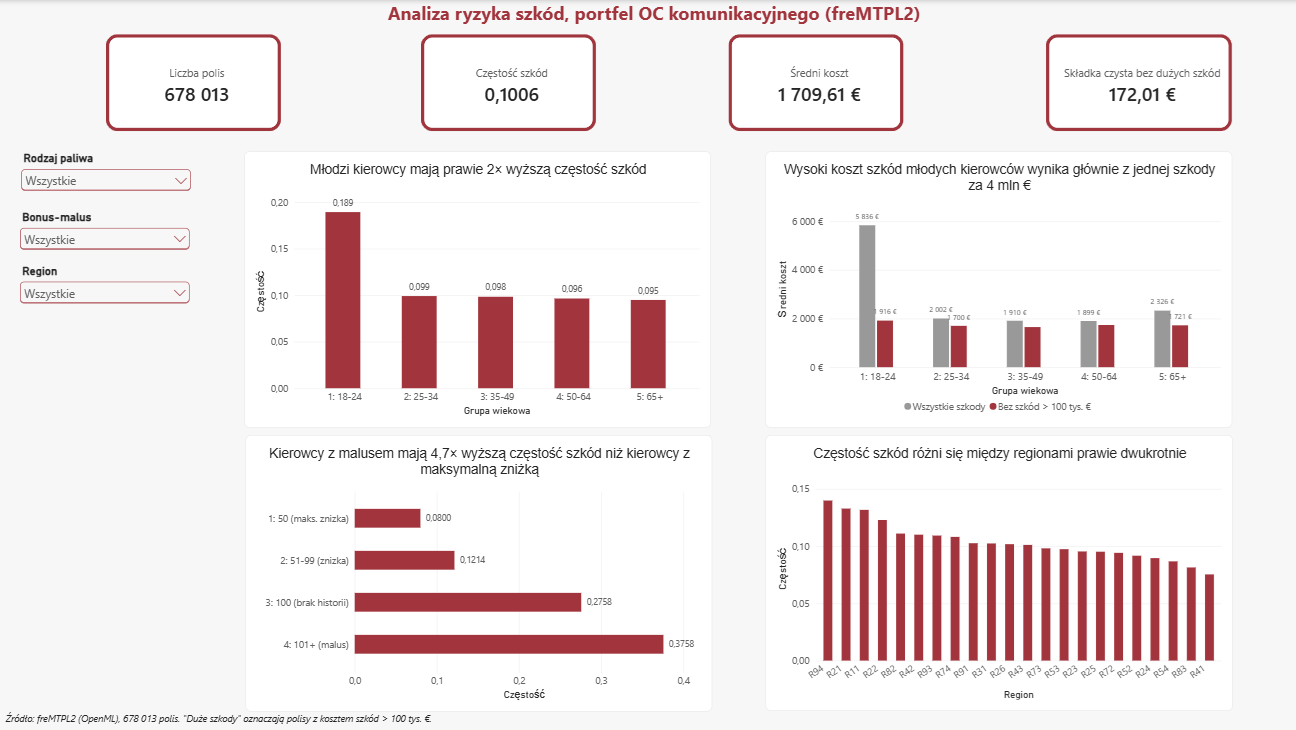

The dashboard page shown, as its layout file describes it:
{"tool":"powerbi","page":{"name":"Przegląd ryzyka portfela","canvas":[1920,1080],"ordinal":0},"visuals":[{"type":"textbox","box":[10.3,0,1910.1,49.4],"z":0},{"type":"cardVisual","fields":{"Data":["_Miary.Liczba polis tekst"]},"box":[158.5,49.4,259.3,144.1],"z":1000},{"type":"cardVisual","fields":{"Data":["_Miary.Czestosc"]},"box":[621.6,49.4,259.3,144.1],"z":2000},{"type":"cardVisual","fields":{"Data":["_Miary.Sredni koszt tekst"]},"box":[1074.4,49.4,259.3,144.1],"z":3000},{"type":"cardVisual","fields":{"Data":["_Miary.Skladka czysta bez duzych szkod"]},"box":[1541.7,49.4,275.8,144.1],"z":4000},{"type":"slicer","fields":{"Values":["vw_policy_bi.VehGas"]},"box":[28.8,222.3,259.3,78.2],"z":5000},{"type":"slicer","fields":{"Values":["vw_policy_bi.grupa_bonusmalus"]},"box":[28,310,259.3,78.2],"z":6000},{"type":"slicer","fields":{"Values":["vw_policy_bi.Area"]},"box":[28,388,259.3,78.2],"z":7000},{"type":"clusteredColumnChart","title":"Młodzi kierowcy mają prawie 2× wyższą częstość szkód","fields":{"Category":["vw_policy_bi.grupa_wiekowa"],"Y":["_Miary.Czestosc"]},"box":[362.3,222.3,687.5,407.5],"z":8000},{"type":"clusteredColumnChart","title":"Wysoki koszt szkód młodych kierowców wynika głównie z jednej szkody za 4 mln €","fields":{"Category":["vw_policy_bi.grupa_wiekowa"],"Y":["_Miary.Sredni koszt","_Miary.Sredni koszt bez duzych szkod"]},"box":[1130,222.3,687.5,407.5],"z":9000},{"type":"clusteredBarChart","title":"Kierowcy z malusem mają 4,7× wyższą częstość szkód niż kierowcy z maksymalną zniżką","fields":{"Category":["vw_policy_bi.grupa_bonusmalus"],"Y":["_Miary.Czestosc"]},"box":[364.4,640.5,687.5,407.5],"z":9001},{"type":"clusteredColumnChart","title":"Częstość szkód różni się między regionami prawie dwukrotnie","fields":{"Category":["vw_policy_bi.Region"],"Y":["_Miary.Czestosc"]},"box":[1130.1,640.5,688.3,406.8],"z":9002},{"type":"textbox","box":[11,1047.2,677.3,33.1],"z":9003}]}

Visuals, with their boxes in screenshot pixels (x1, y1, x2, y2), scaled from the page's 1920x1080 canvas onto the 1296x730 screenshot:
textbox: 7, 0, 1295, 33
cardVisual - _Miary.Liczba polis tekst: 107, 33, 282, 131
cardVisual - _Miary.Czestosc: 420, 33, 595, 131
cardVisual - _Miary.Sredni koszt tekst: 725, 33, 900, 131
cardVisual - _Miary.Skladka czysta bez duzych szkod: 1041, 33, 1227, 131
slicer - vw_policy_bi.VehGas: 19, 150, 194, 203
slicer - vw_policy_bi.grupa_bonusmalus: 19, 210, 194, 262
slicer - vw_policy_bi.Area: 19, 262, 194, 315
"Młodzi kierowcy mają prawie 2× wyższą częstość szkód" clusteredColumnChart: 245, 150, 709, 426
"Wysoki koszt szkód młodych kierowców wynika głównie z jednej szkody za 4 mln €" clusteredColumnChart: 763, 150, 1227, 426
"Kierowcy z malusem mają 4,7× wyższą częstość szkód niż kierowcy z maksymalną zniżką" clusteredBarChart: 246, 433, 710, 708
"Częstość szkód różni się między regionami prawie dwukrotnie" clusteredColumnChart: 763, 433, 1227, 708
textbox: 7, 708, 465, 729
